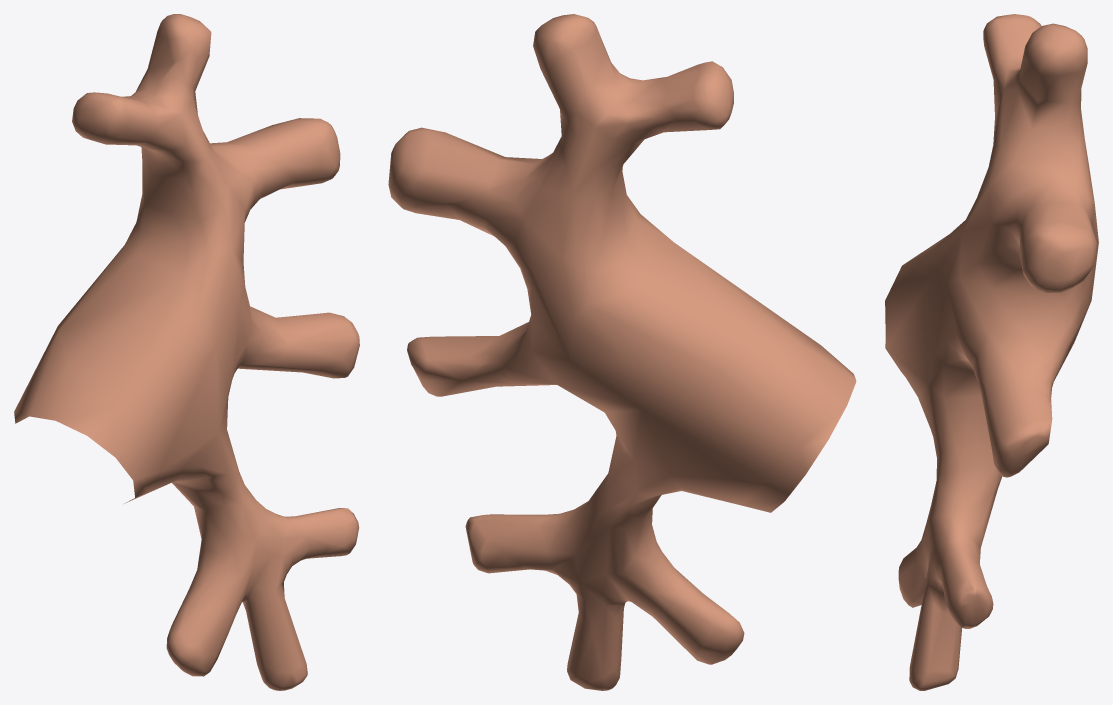
File: renal-pelvis-l.glb
The picture shows the model from 3 angles, left to right: view 1: azimuth 30°, elevation 25°; view 2: azimuth 150°, elevation 25°; view 3: azimuth 270°, elevation 25°; orthographic projection. The views are drawn at different scales.
Visible parts, largest first — view 1: Renal pelvis.l; view 2: Renal pelvis.l; view 3: Renal pelvis.l.
Part boxes in pixels (box(x1,y1,x2,y2)): Renal pelvis.l: box(14, 14, 359, 690); Renal pelvis.l: box(388, 14, 856, 690); Renal pelvis.l: box(885, 14, 1098, 690).
Size of the model in its own units: 0.0431 by 0.0744 by 0.0225.
